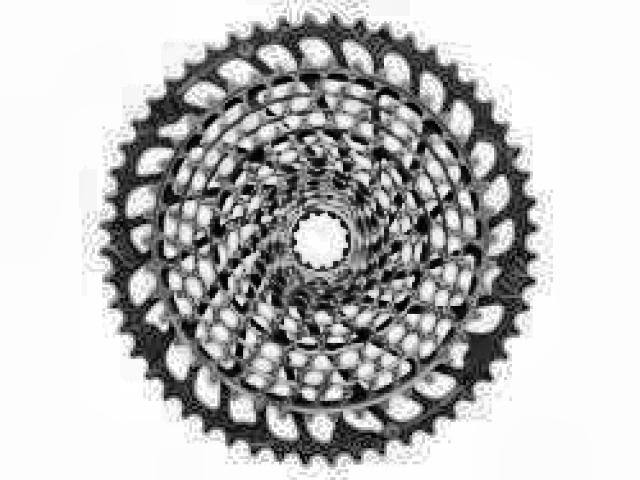cassette: (93, 10, 538, 468)
